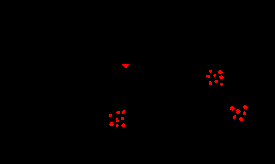Target: (122, 64, 129, 68), (230, 106, 235, 111), (236, 109, 241, 114), (218, 70, 223, 74), (219, 75, 224, 79), (243, 105, 248, 109), (109, 122, 114, 126), (239, 117, 243, 121), (121, 123, 125, 127), (206, 75, 210, 78), (214, 80, 218, 83), (209, 81, 212, 85), (122, 110, 125, 114), (116, 111, 120, 114), (243, 111, 246, 115), (233, 115, 236, 119), (116, 118, 119, 122), (209, 70, 212, 73), (213, 74, 216, 77), (220, 83, 223, 86), (109, 114, 112, 117), (121, 117, 124, 120), (116, 124, 119, 127)
